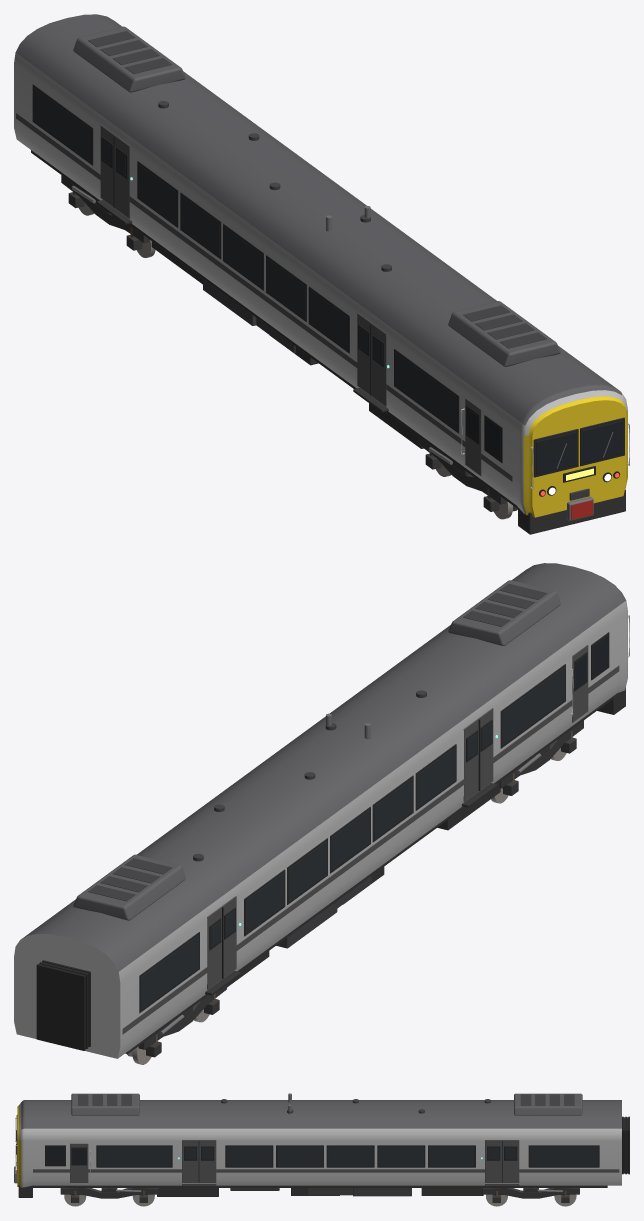
The model's file is train_dmu_car.glb.
The picture shows the model from 3 angles, top to bottom: view 1: azimuth 30°, elevation 25°; view 2: azimuth 150°, elevation 25°; view 3: azimuth 270°, elevation 25°; orthographic projection. The views are drawn at different scales.
Parts seen in each view (by area): view 1: SM_train_dmu_car; view 2: SM_train_dmu_car; view 3: SM_train_dmu_car.
Boxes of the visible parts, x1,y1,x2,y2 form: SM_train_dmu_car: [14, 14, 629, 534]; SM_train_dmu_car: [14, 563, 629, 1064]; SM_train_dmu_car: [14, 1093, 629, 1206].
Size of the model in its own units: 2.99 by 4.1 by 23.38.
